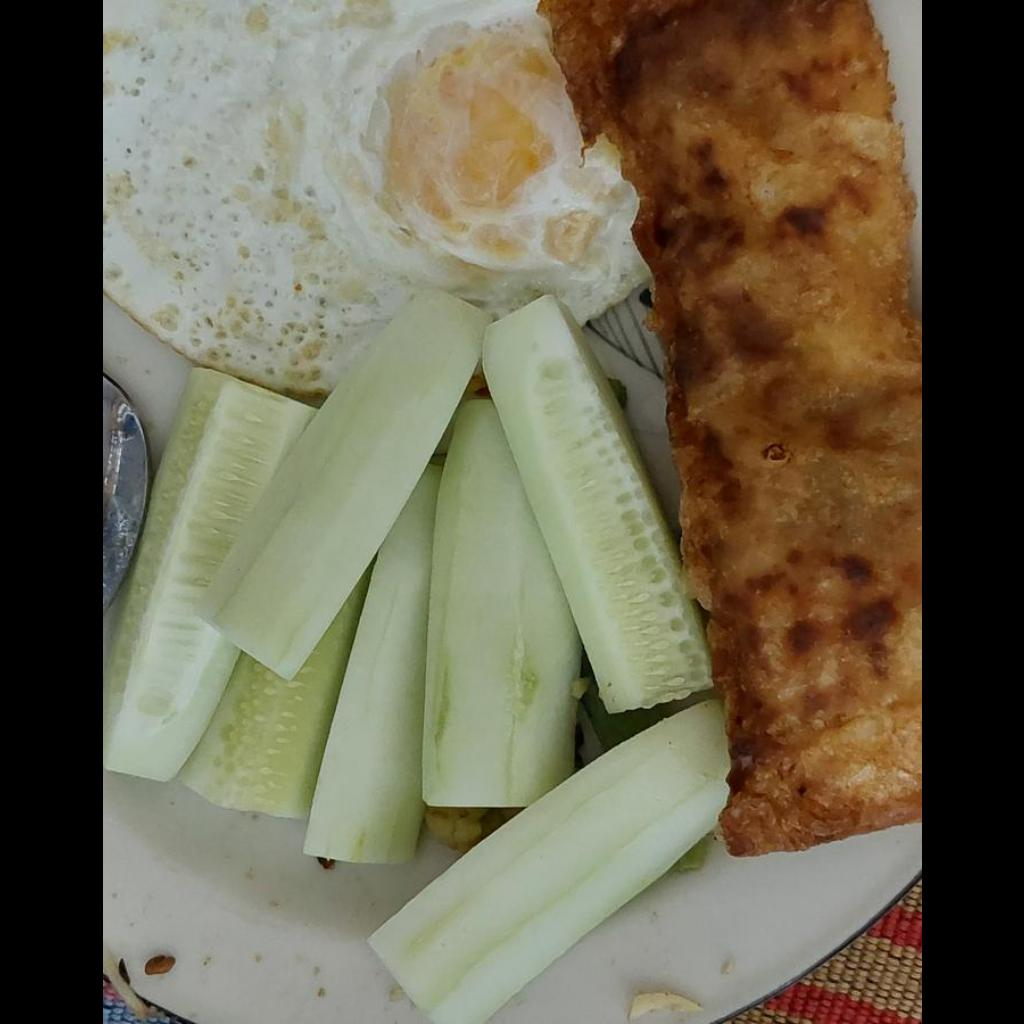cucumber: (102, 282, 729, 1022)
egg-poached: (102, 0, 653, 391)
roll: (544, 5, 920, 857)
